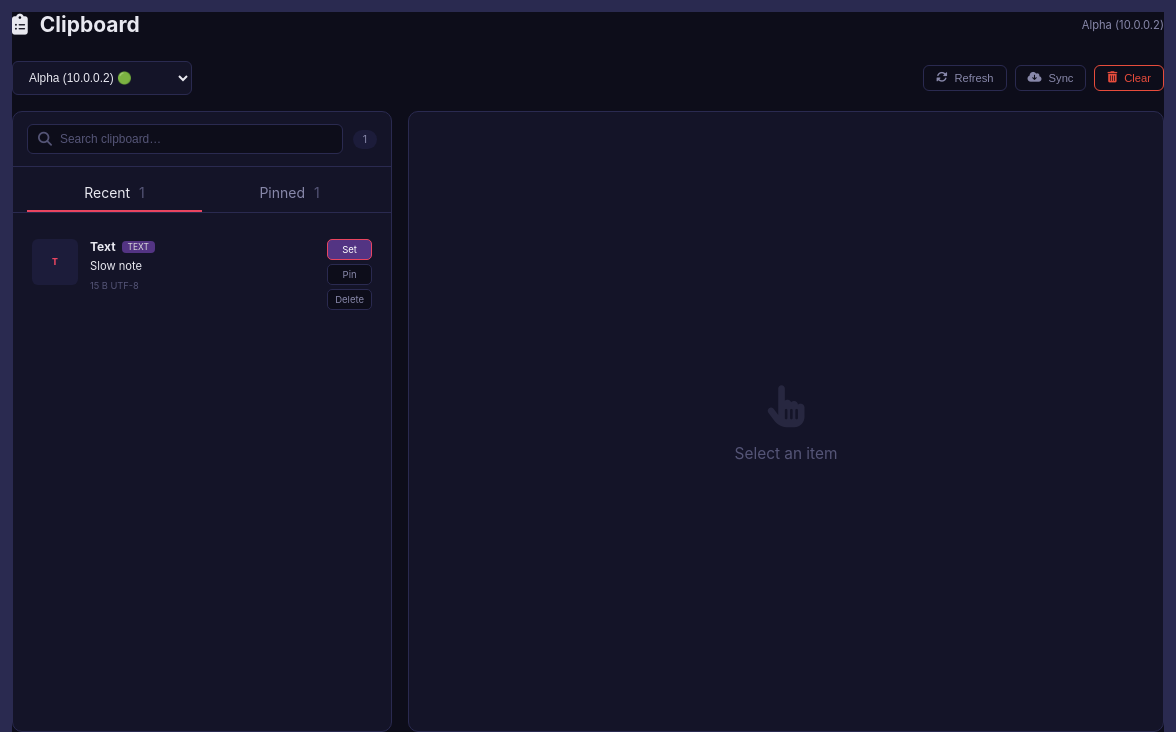
Scenario: ClipboardView › ignores a stale detail response after switching views
Click the text "Slow note". click: {"x": 116, "y": 266}
box: x1=90 y1=259 x2=142 y2=273
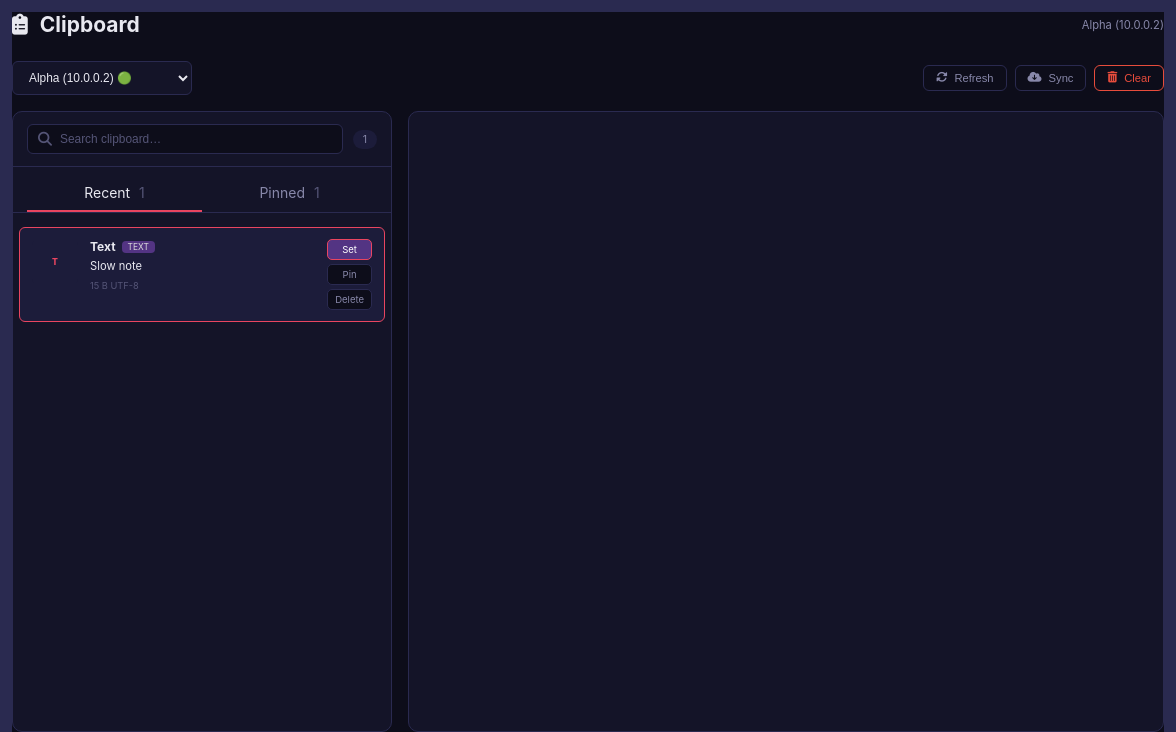
Click the button "Pinned 1". click: {"x": 290, "y": 194}
box: x1=202 y1=175 x2=377 y2=212
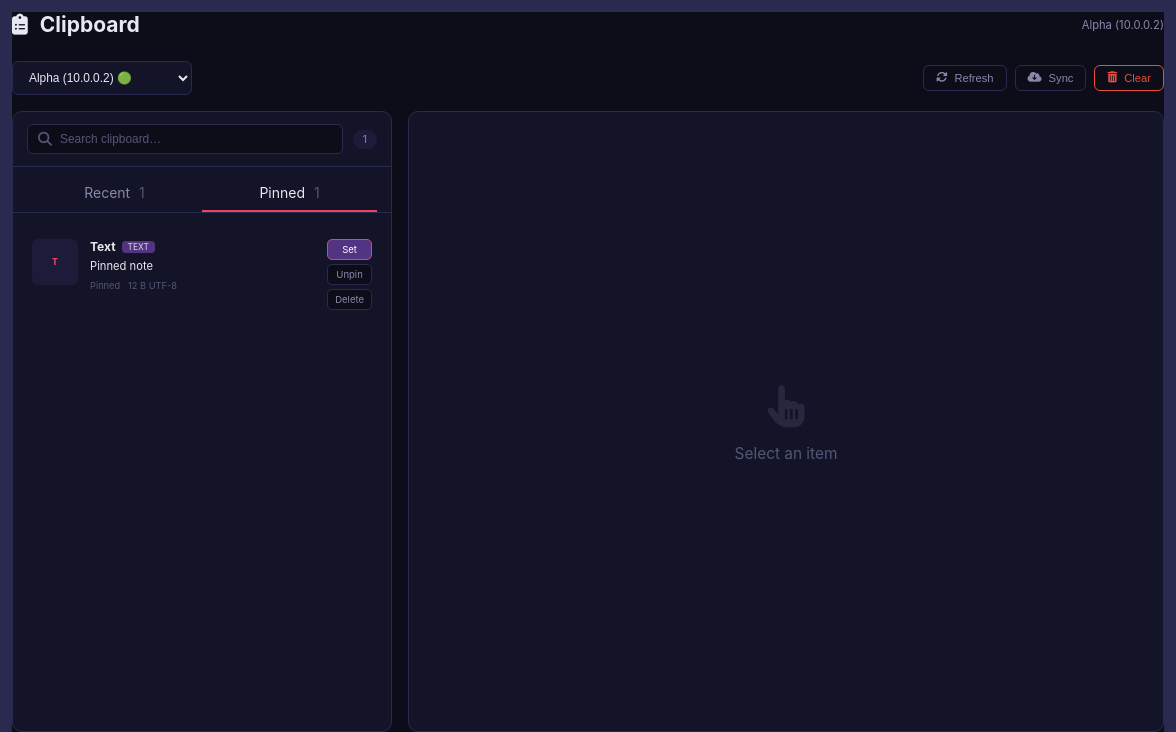
Check: the text "Select an item" is shown, box x1=735 y1=444 x2=837 y2=462
